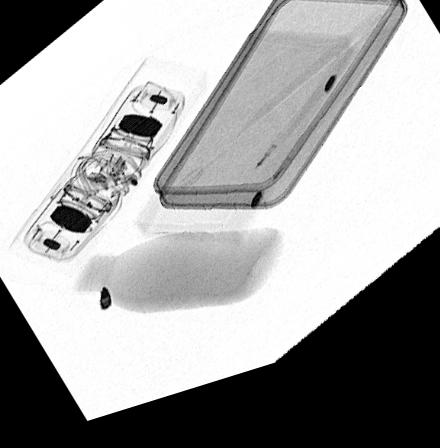Bullet: (99, 292, 113, 317)
